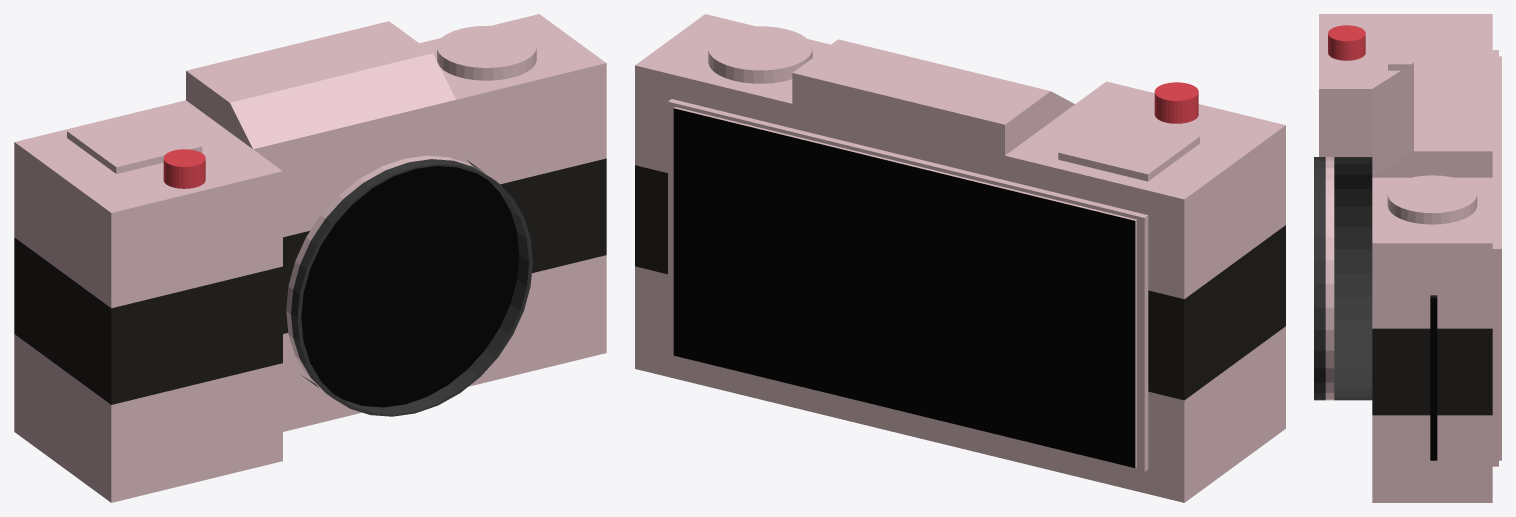
The model's file is Camera.fbx.
3 renders of one model, left to right at view 1: azimuth 30°, elevation 25°; view 2: azimuth 150°, elevation 25°; view 3: azimuth 270°, elevation 25°, orthographic. The views are drawn at different scales.
Visible parts, largest first — view 1: Cube; view 2: Cube; view 3: Cube.
Part boxes in pixels (box(x1,y1,x2,y2)): Cube: box(14, 14, 606, 502); Cube: box(635, 14, 1285, 502); Cube: box(1314, 14, 1501, 502).
Bounding box in the file's own units: 912 × 525 × 313.
